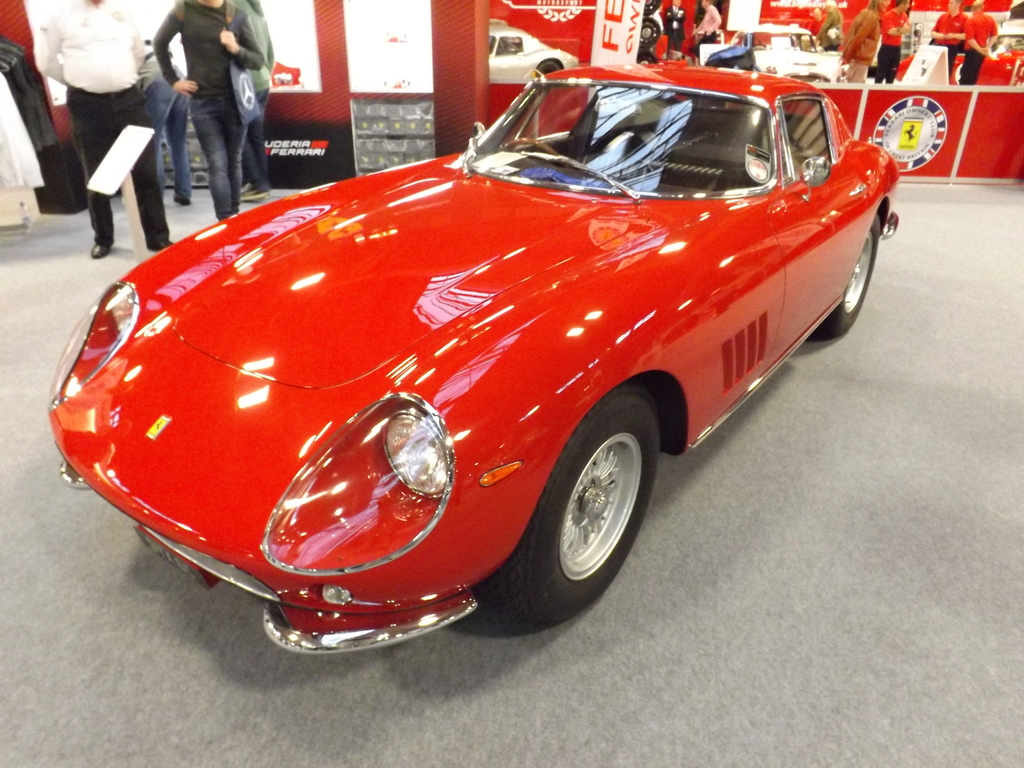Person: (31, 0, 998, 259)
